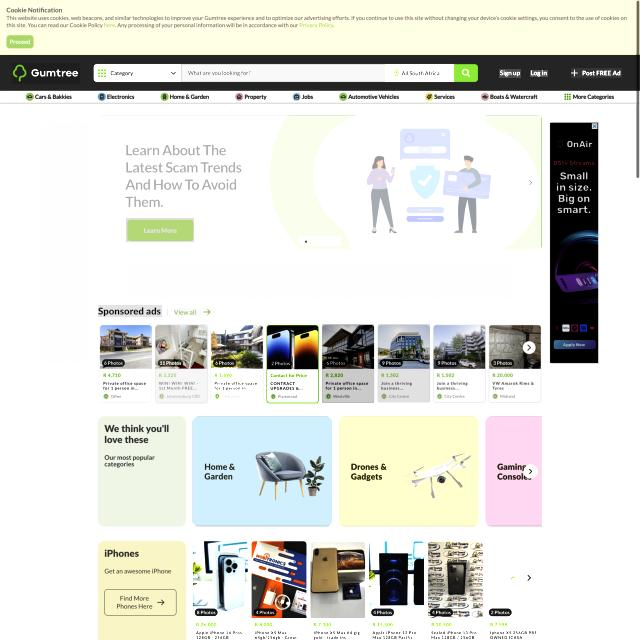CheckBox: (126, 218, 194, 242), (571, 68, 622, 78), (454, 65, 478, 82), (174, 308, 212, 316), (499, 69, 521, 78), (530, 70, 548, 77)
CheckedTextView: (181, 64, 385, 82)
ImageView: (551, 122, 599, 364)
Spinner: (99, 324, 153, 403), (156, 324, 208, 404), (267, 324, 319, 404), (211, 324, 263, 403), (322, 324, 374, 403), (378, 324, 430, 402)
Switch: (97, 116, 541, 250), (193, 417, 543, 525), (190, 539, 544, 640)
alert: (93, 64, 181, 82)
bag: (0, 54, 637, 105)
breadcrumbs: (98, 305, 162, 317)
date picker: (12, 63, 80, 84)
decoration: (0, 91, 636, 104)
dropdown: (299, 236, 341, 246)
footer: (186, 68, 252, 77)
header: (0, 0, 637, 54)
